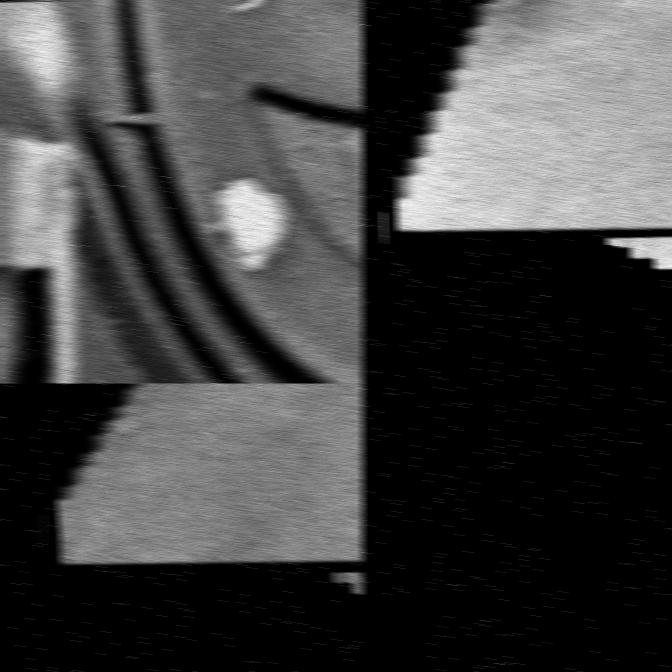Airbag: (0, 0, 363, 383), (395, 0, 672, 231), (57, 383, 364, 565)
